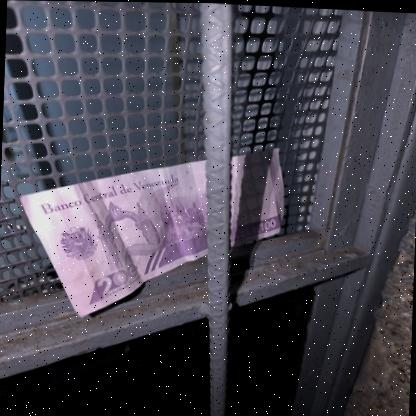one_hundred-back-vef: (15, 135, 286, 327)
